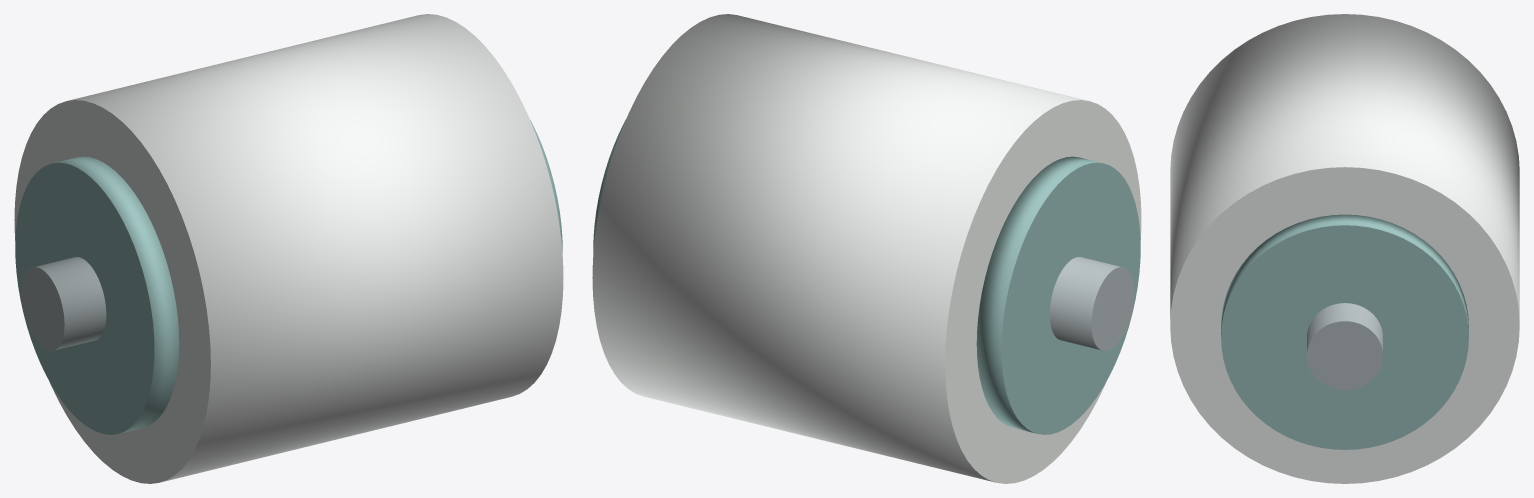
The model's file is media_spindle.glb.
3 renders of one model, left to right at view 1: azimuth 30°, elevation 25°; view 2: azimuth 150°, elevation 25°; view 3: azimuth 270°, elevation 25°, orthographic. The views are drawn at different scales.
Visible parts, largest first — view 1: paper_roll, roll_guide, spindle; view 2: paper_roll, roll_guide, spindle; view 3: paper_roll, roll_guide.001, spindle.
Boxes of the visible parts, left/top/right/bottom form: paper_roll: left=14, top=14, right=563, bottom=483; roll_guide: left=15, top=156, right=179, bottom=434; spindle: left=21, top=257, right=106, bottom=350; paper_roll: left=592, top=14, right=1141, bottom=483; roll_guide: left=976, top=156, right=1140, bottom=434; spindle: left=1049, top=257, right=1134, bottom=350; paper_roll: left=1170, top=14, right=1519, bottom=483; roll_guide.001: left=1221, top=214, right=1468, bottom=449; spindle: left=1307, top=303, right=1382, bottom=390.
Size of the model in its own units: 0.159 by 0.11 by 0.11.
